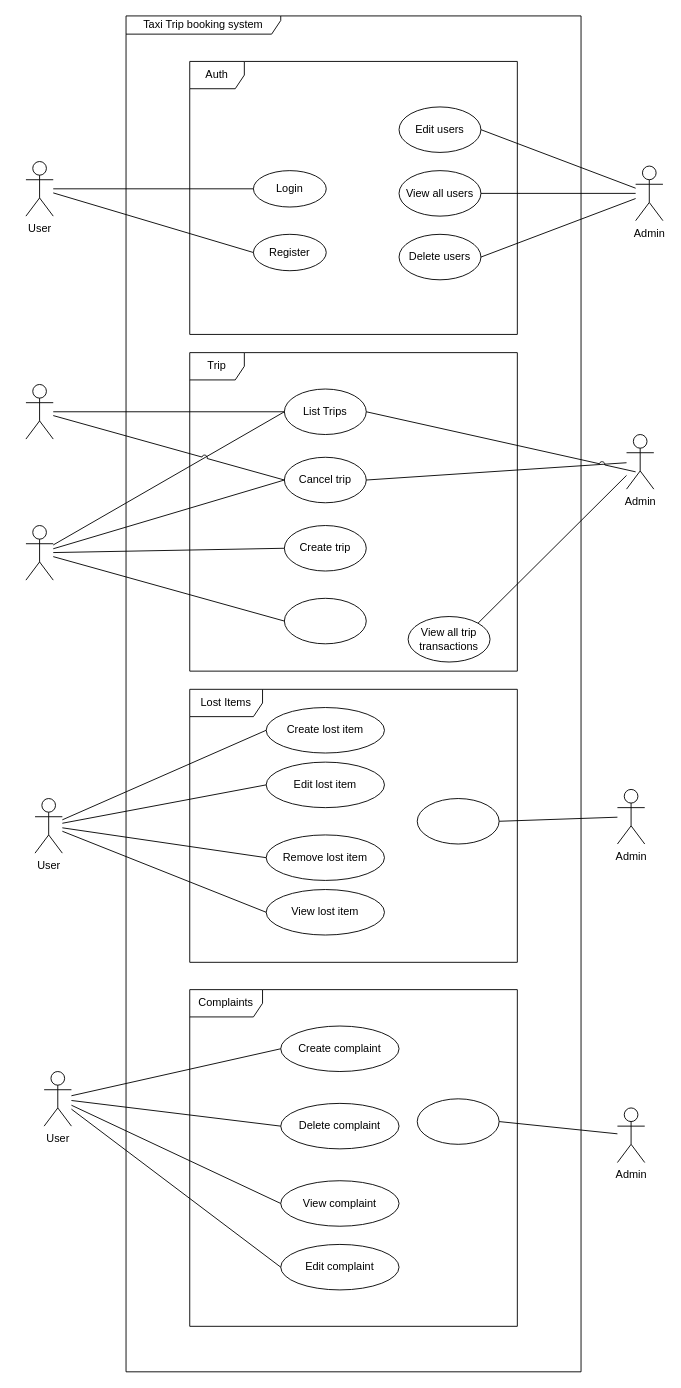
Some shapes in this 681 by 1388 pixel diagram are drawn without their labels. Each missing label, with the centre of its shape:
Customer: the point at 39,411
Driver: the point at 39,552
Edit Trip: the point at 324,620
View all complaints: the point at 457,1121
View all lost items: the point at 457,821
